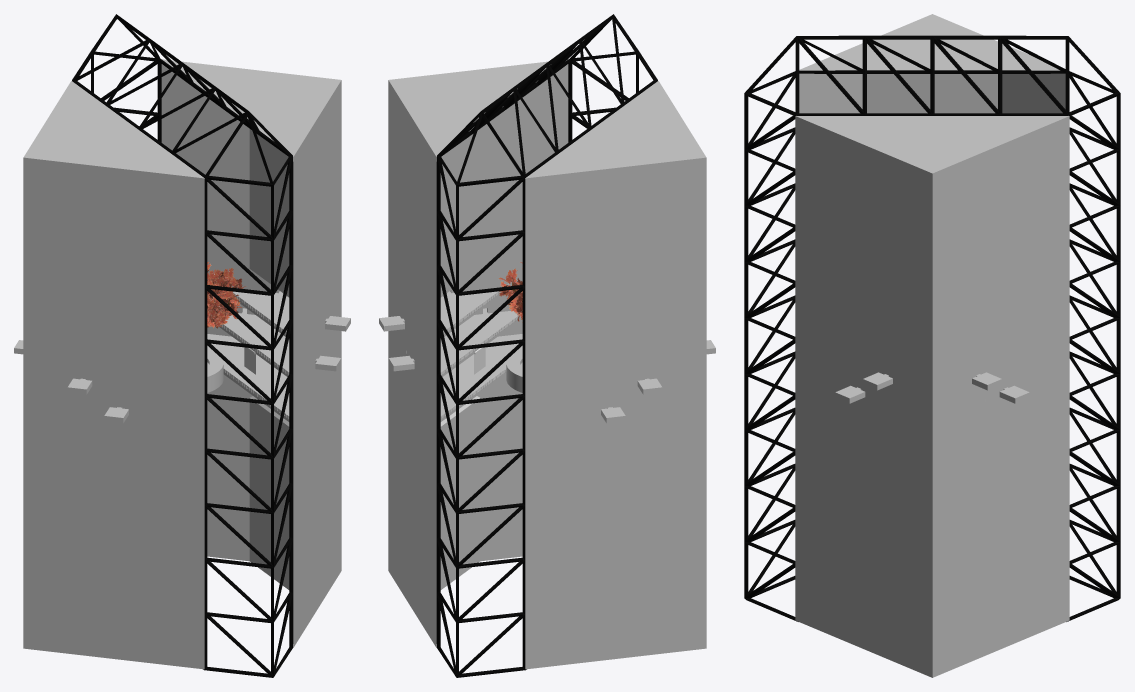
The model's file is test level2 2.fbx.
The picture shows the model from 3 angles, left to right: view 1: azimuth 30°, elevation 25°; view 2: azimuth 150°, elevation 25°; view 3: azimuth 270°, elevation 25°; orthographic projection. The views are drawn at different scales.
Parts seen in each view (by area): view 1: Walls_Mesh.001, Walls_Mesh, WindowTruss_Mesh, SideWindows_Mesh, CafeteriaFloor_Mesh, Floor2_Mesh, Tree_mesh, Floor3_Mesh, TreePodium_Mesh; view 2: Walls_Mesh.001, Walls_Mesh, WindowTruss_Mesh, SideWindows_Mesh, CafeteriaFloor_Mesh, Floor2_Mesh, Floor3_Mesh, Tree_mesh, TreePodium_Mesh; view 3: Walls_Mesh.001, WindowTruss_Mesh, Walls_Mesh, SideWindows_Mesh.
Boxes of the visible parts, left/top/right/bottom form: Walls_Mesh.001: left=23, top=80, right=341, bottom=669; Walls_Mesh: left=14, top=59, right=350, bottom=643; WindowTruss_Mesh: left=72, top=14, right=293, bottom=677; SideWindows_Mesh: left=249, top=129, right=289, bottom=589; CafeteriaFloor_Mesh: left=207, top=334, right=289, bottom=421; Floor2_Mesh: left=219, top=313, right=289, bottom=376; Tree_mesh: left=207, top=262, right=246, bottom=328; Floor3_Mesh: left=233, top=291, right=289, bottom=339; TreePodium_Mesh: left=207, top=349, right=223, bottom=392; Walls_Mesh.001: left=388, top=80, right=706, bottom=669; Walls_Mesh: left=379, top=59, right=715, bottom=643; WindowTruss_Mesh: left=436, top=14, right=657, bottom=677; SideWindows_Mesh: left=440, top=129, right=480, bottom=589; CafeteriaFloor_Mesh: left=440, top=334, right=522, bottom=421; Floor2_Mesh: left=440, top=311, right=521, bottom=376; Floor3_Mesh: left=440, top=291, right=500, bottom=339; Tree_mesh: left=499, top=262, right=522, bottom=322; TreePodium_Mesh: left=506, top=349, right=522, bottom=392; Walls_Mesh.001: left=795, top=78, right=1069, bottom=677; WindowTruss_Mesh: left=744, top=35, right=1120, bottom=621; Walls_Mesh: left=796, top=14, right=1068, bottom=403; SideWindows_Mesh: left=867, top=74, right=997, bottom=113.
Size of the model in its own units: 17715 by 29223 by 17674.
